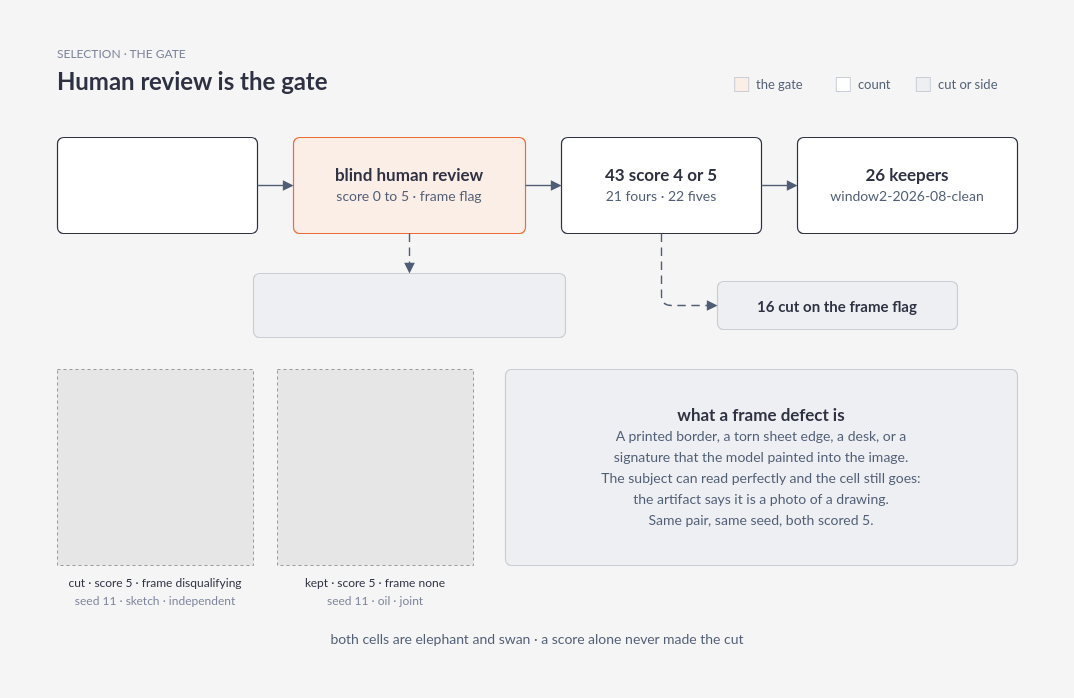
Image size: 1074x698. Some labels were removed from this diagram. Grey dashed boxes stand in for pictures. The box of each missing label's shape, as (x1, y1, x2, y2) in pixels:
206 cells baked 98 bases x 4 Dream arms: (56, 136, 258, 234)
CLIP pair score: AUC 0.706 under the 0.75 bar · recorded, never a gate: (252, 272, 566, 338)
